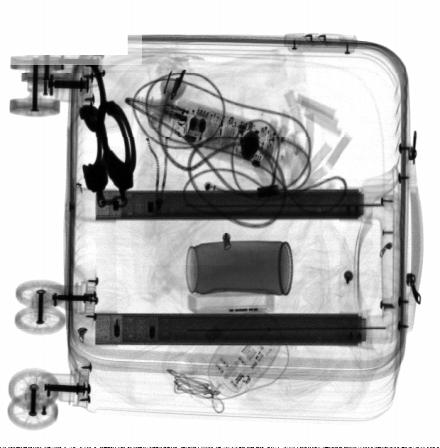HandCuffs: (69, 53, 137, 214)
